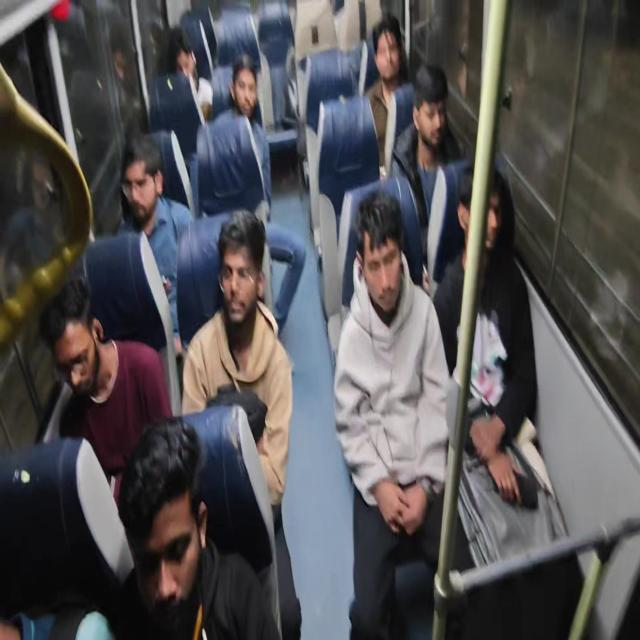person: (119, 431, 283, 640), (33, 278, 129, 482), (203, 224, 301, 364), (345, 206, 444, 326), (0, 518, 75, 640), (99, 144, 171, 226), (465, 186, 518, 270), (413, 61, 462, 149), (167, 34, 206, 109), (220, 66, 260, 126), (375, 18, 401, 100)
